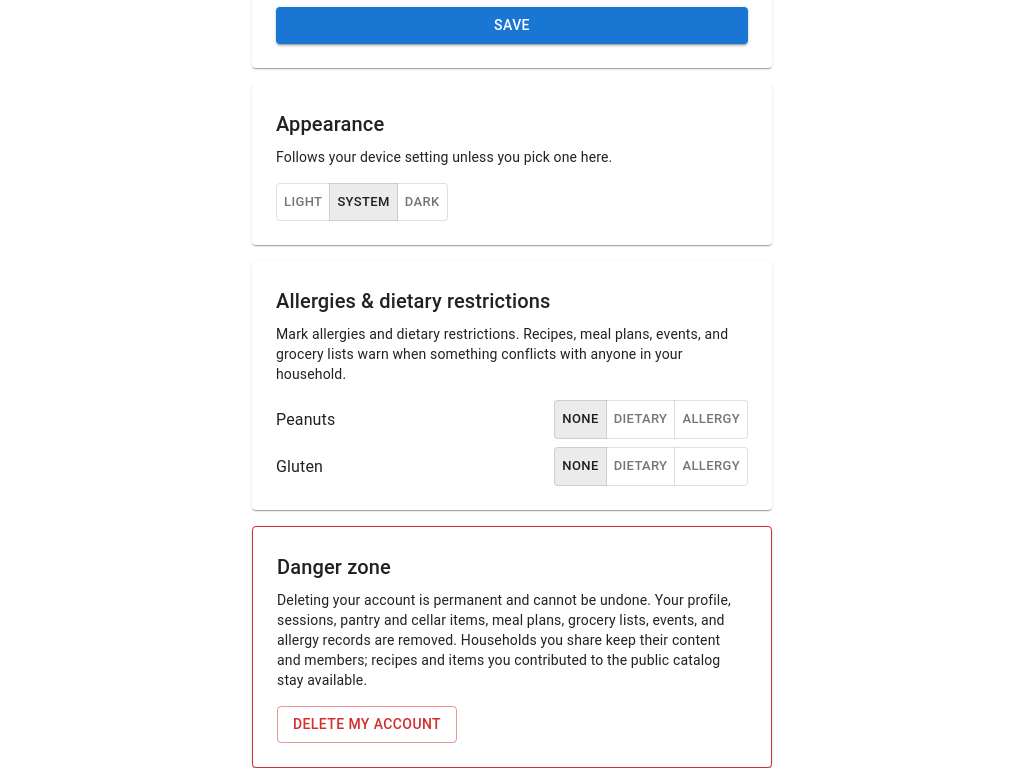
profile page › disclaimer consent › dismissal drops the pending change
(page scrolled)
Click the button "Dietary" in the row of "Gluten". click: (641, 467)
box: x1=606 y1=447 x2=676 y2=486
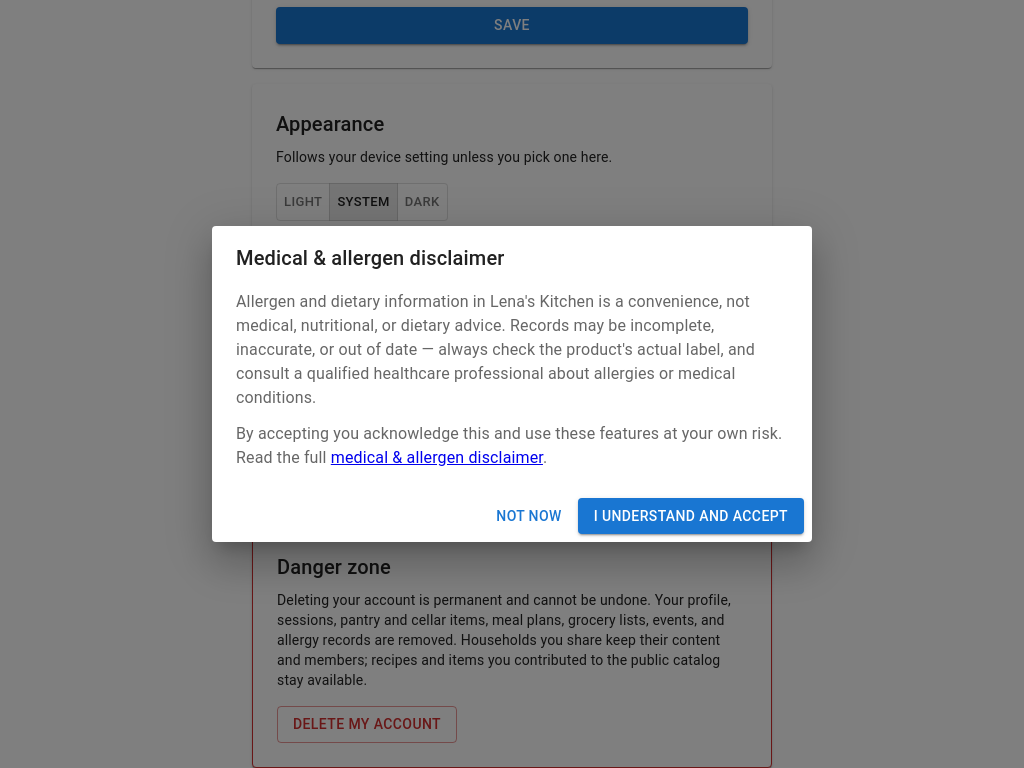
Click the button "Not now". click: (529, 516)
box: x1=488 y1=498 x2=570 y2=534
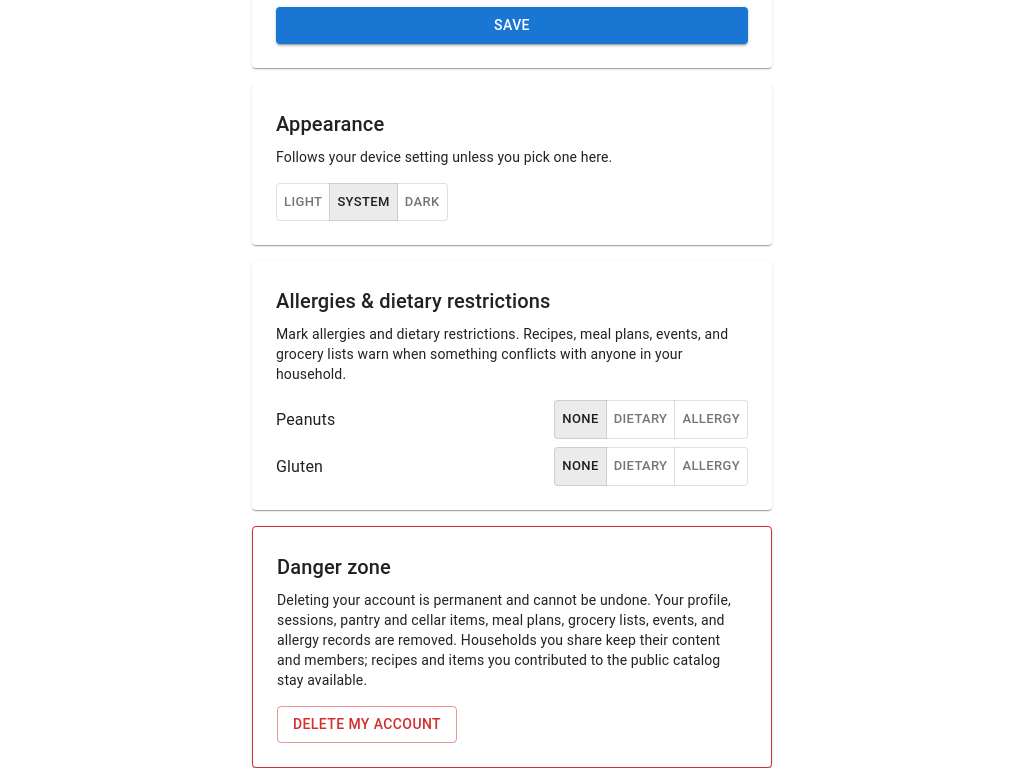
Result: the dialog is gone
